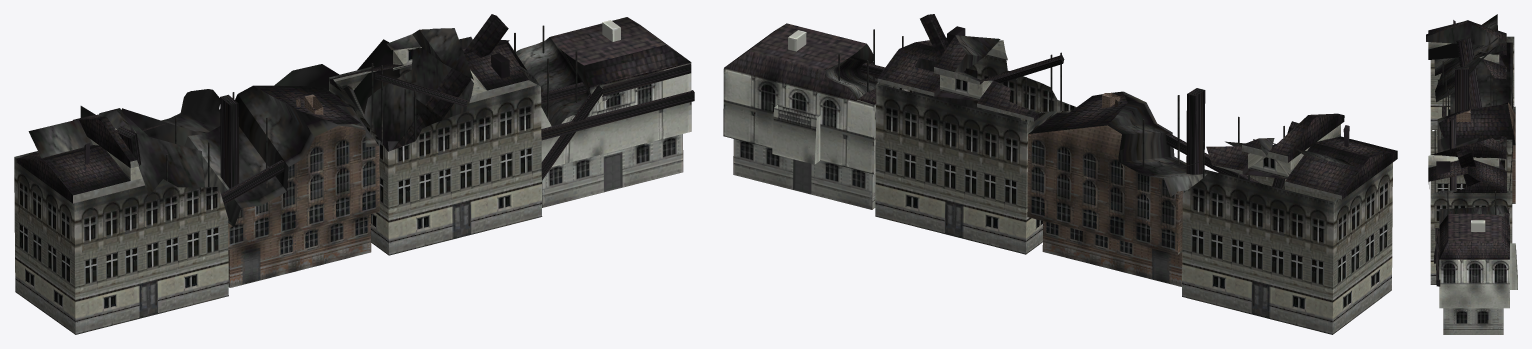
The model's file is Ruin_CityBlock_05.fbx.
The picture shows the model from 3 angles, left to right: view 1: azimuth 30°, elevation 25°; view 2: azimuth 150°, elevation 25°; view 3: azimuth 270°, elevation 25°; orthographic projection. The views are drawn at different scales.
Parts seen in each view (by area): view 1: Ruin_CityBlock_05_Part0_destroyed_cityblock01b; view 2: Ruin_CityBlock_05_Part0_destroyed_cityblock01b; view 3: Ruin_CityBlock_05_Part0_destroyed_cityblock01b.
Boxes of the visible parts, x1,y1,x2,y2 form: Ruin_CityBlock_05_Part0_destroyed_cityblock01b: [14, 14, 694, 334]; Ruin_CityBlock_05_Part0_destroyed_cityblock01b: [723, 14, 1397, 334]; Ruin_CityBlock_05_Part0_destroyed_cityblock01b: [1426, 14, 1517, 334].
Bounding box in the file's own units: 3.22 × 0.9459 × 0.5869.
